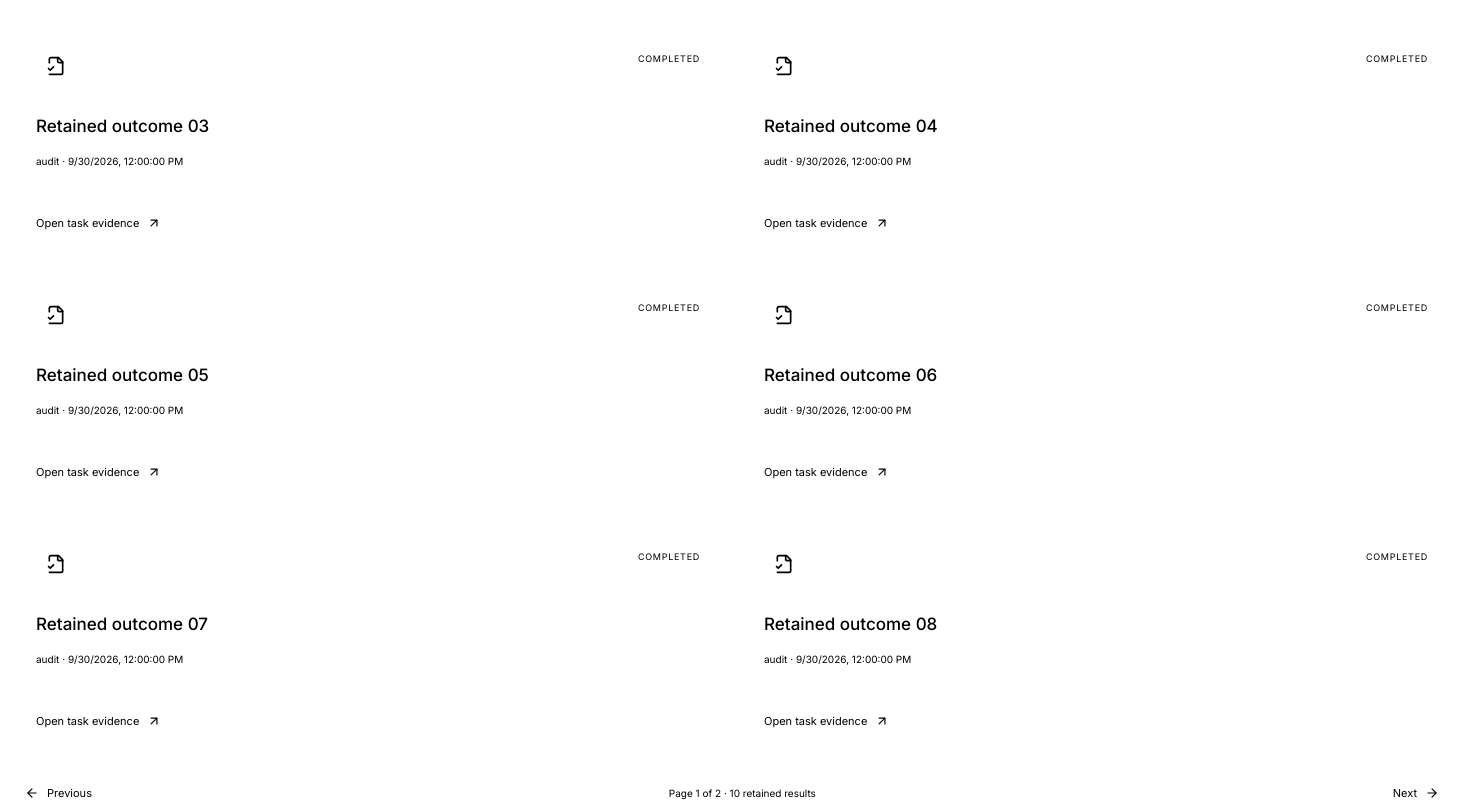
Scenario: filters terminal outcomes, paginates, and resets the page when searching
(page scrolled)
Expected: the text "Page 1 of 2 · 10 retained results" is shown, [669, 786, 816, 800]
Expected: the button "Previous" is disabled, [12, 776, 105, 809]
Click the button "Next".
click(1416, 793)  # box [1380, 776, 1452, 809]
(page scrolled)
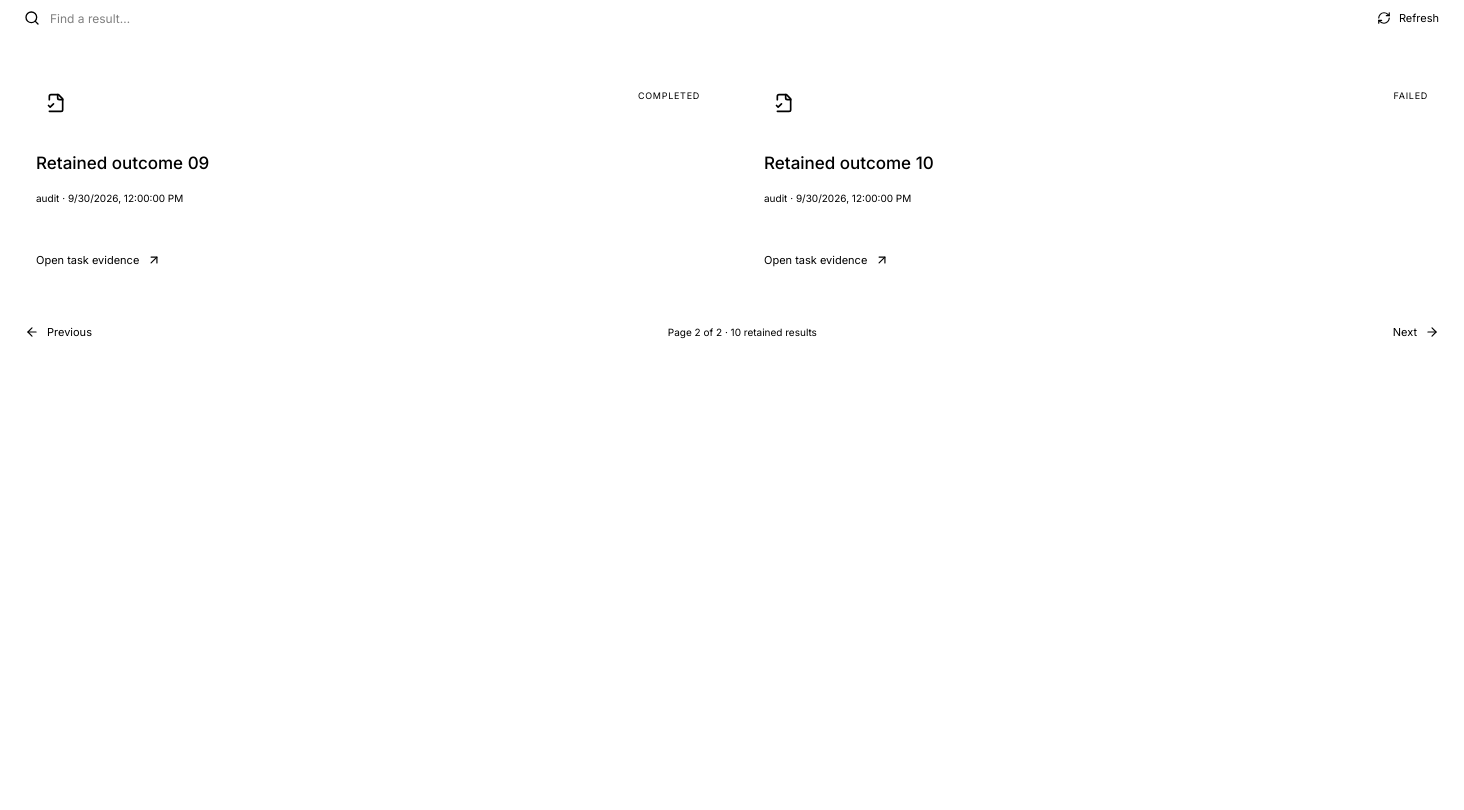
Expected: the heading "Retained outcome 09" is shown, [36, 153, 209, 173]
Expected: the heading "Retained outcome 10" is shown, [764, 153, 934, 173]
Expected: the button "Next" is disabled, [1380, 315, 1452, 349]
Type "failed" into the field named "Search results".
click(136, 18); type("failed")  # box [50, 10, 223, 26]
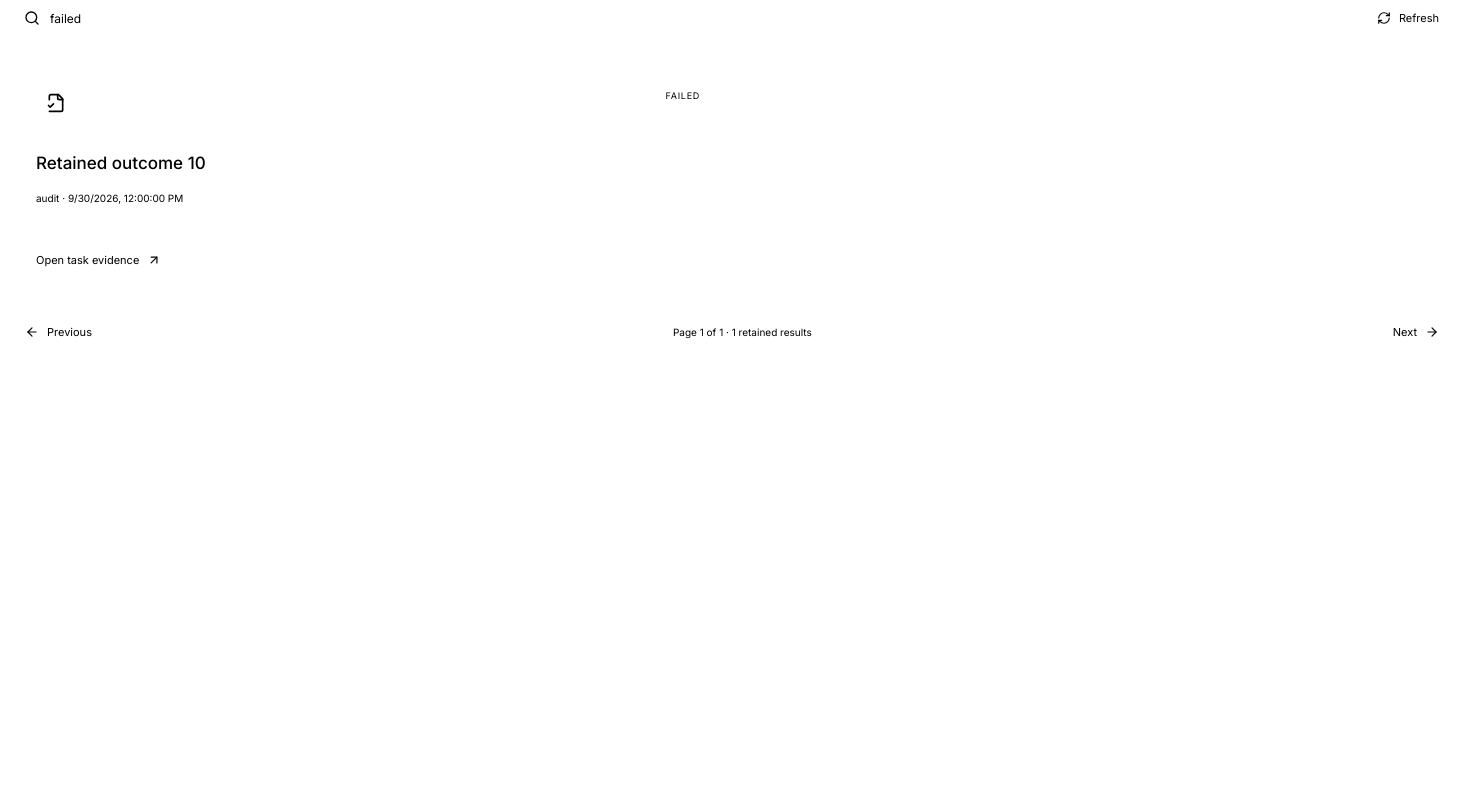
Expected: the heading "Retained outcome 10" is shown, [36, 153, 206, 173]
Expected: the text "Page 1 of 1 · 1 retained results" is shown, [673, 324, 812, 340]
Replace the text in the field named "Search results" with "nonexistent" at (136, 18), box [50, 10, 223, 26]
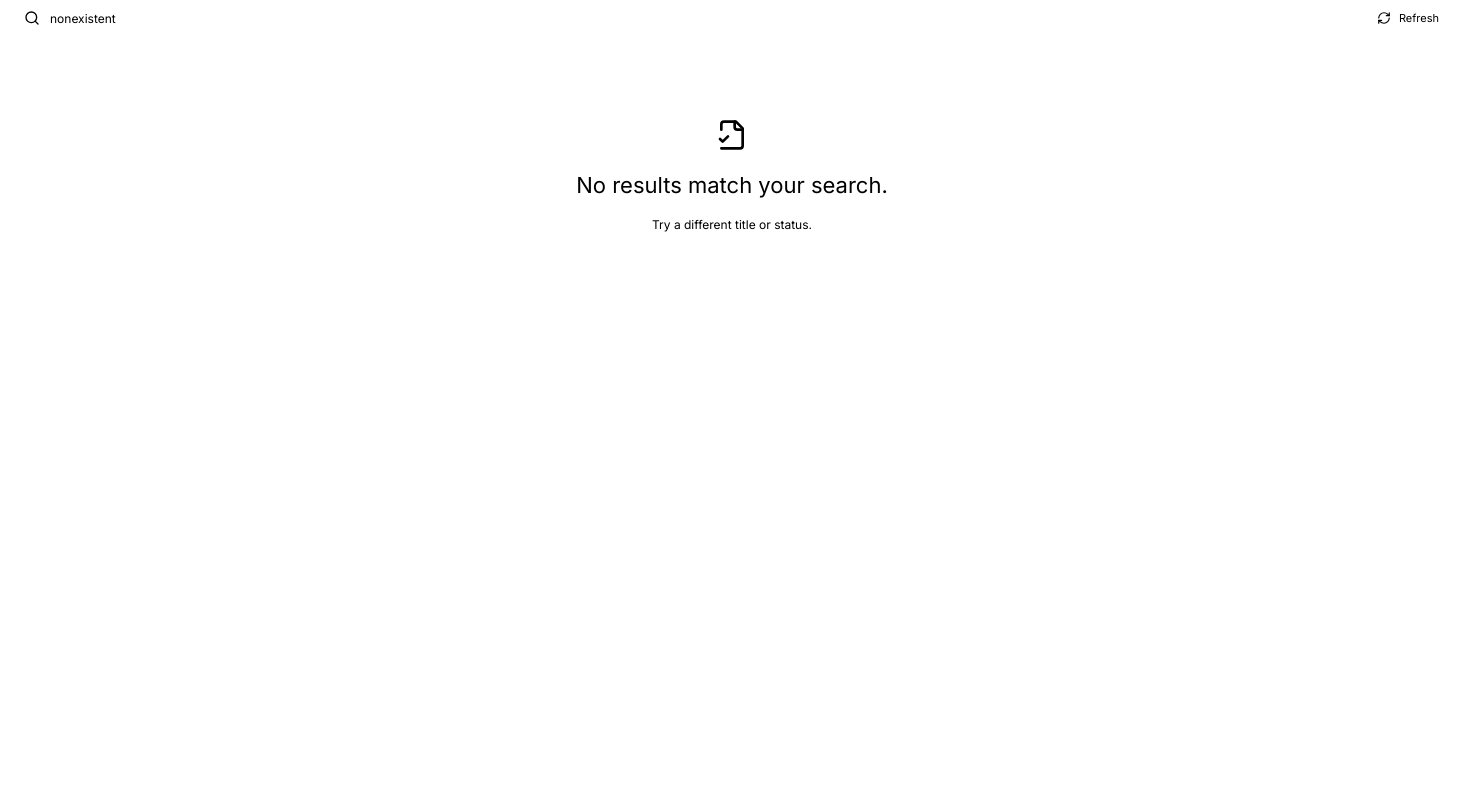
Expected: the heading "No results match your search." is shown, [576, 172, 888, 198]
